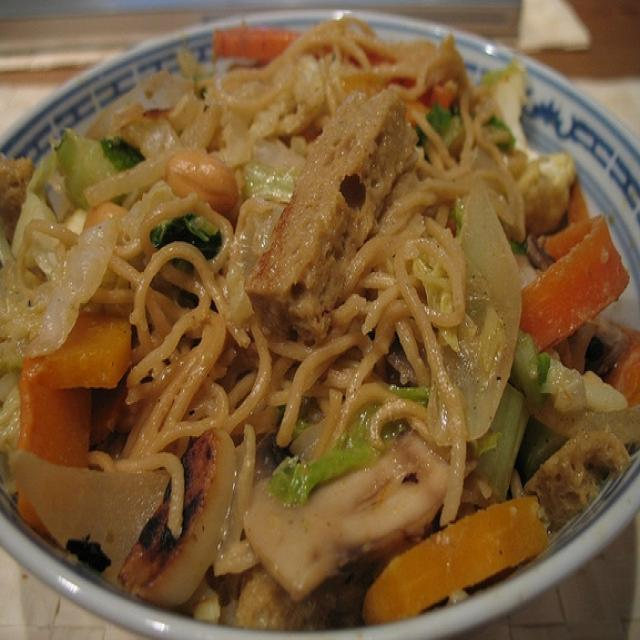面条主食: (13, 21, 628, 612)
